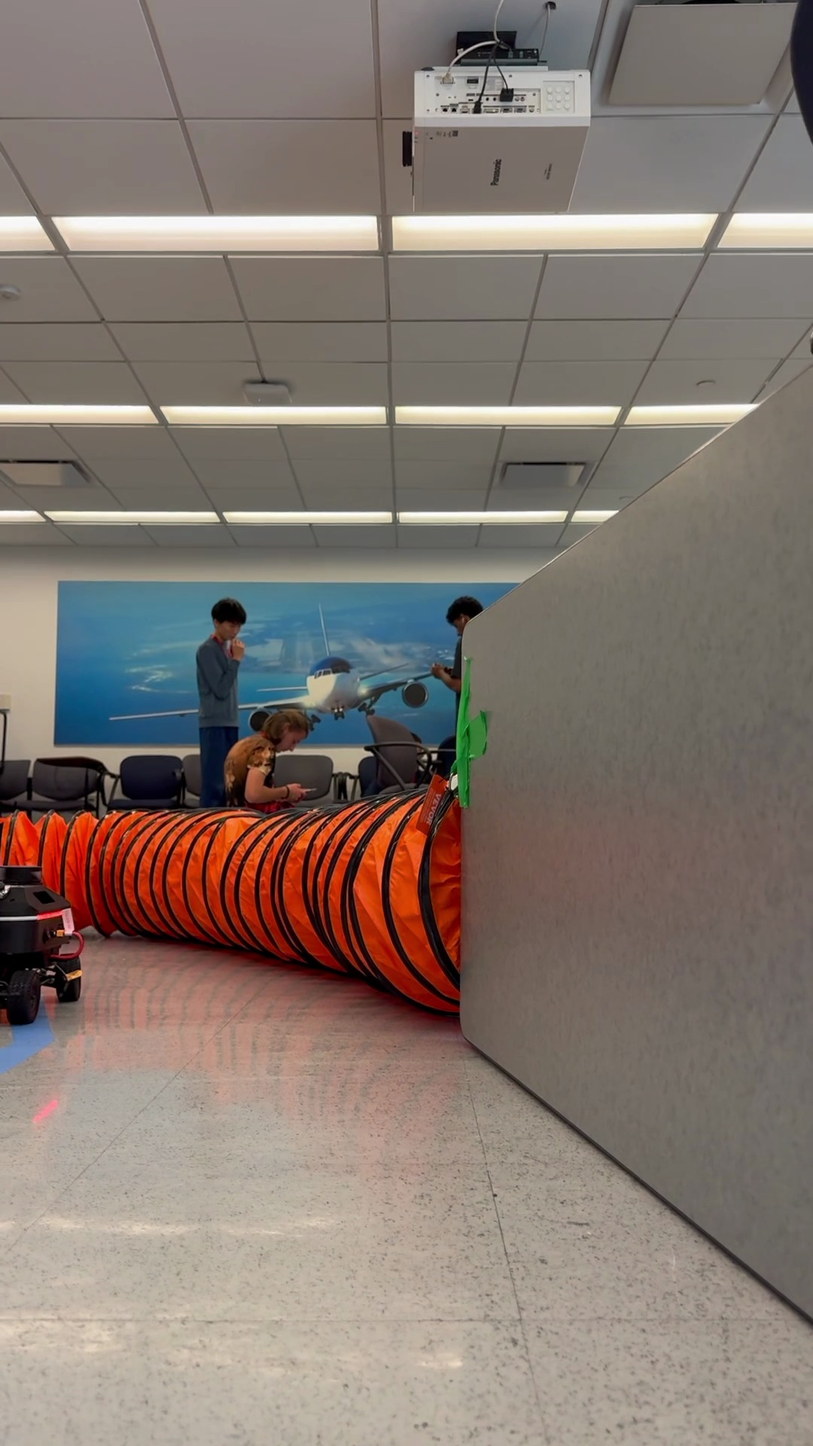racecar: (1, 865, 86, 1024)
